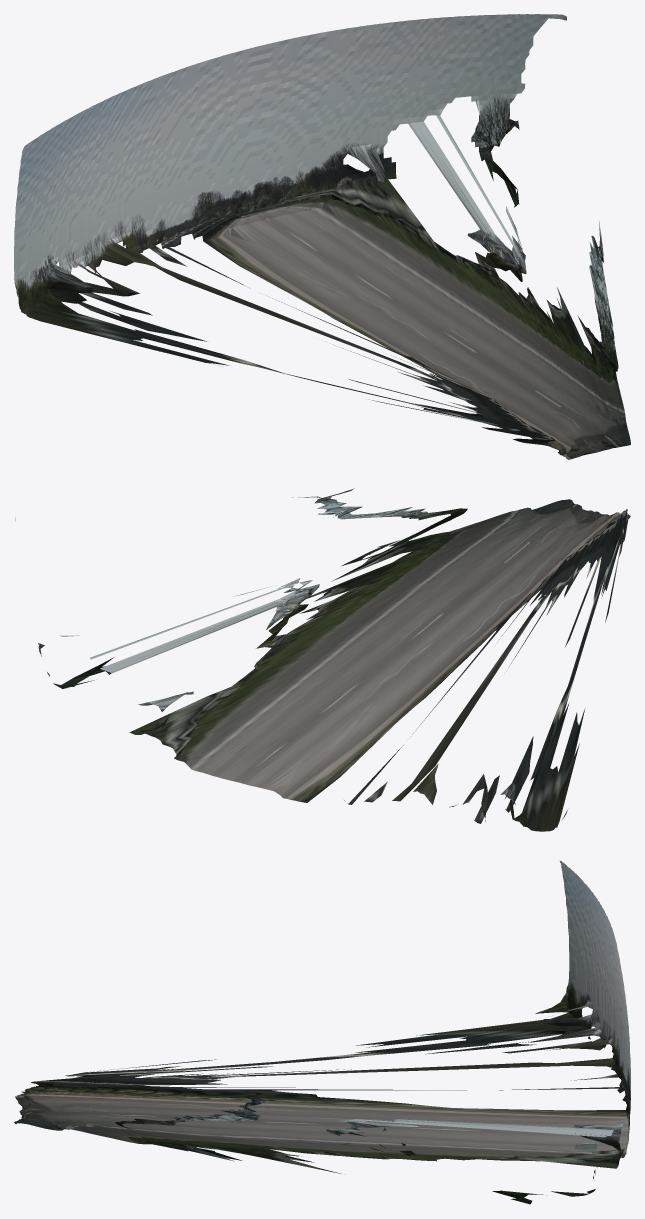
The picture shows the model from 3 angles, top to bottom: view 1: azimuth 30°, elevation 25°; view 2: azimuth 150°, elevation 25°; view 3: azimuth 270°, elevation 25°; orthographic projection. The views are drawn at different scales.
Parts seen in each view (by area): view 1: defaultobject; view 2: defaultobject; view 3: defaultobject.
Boxes of the visible parts, <box> form: defaultobject: <box>14,14,630,459</box>; defaultobject: <box>15,488,630,831</box>; defaultobject: <box>14,860,630,1204</box>.
Bounding box in the file's own units: 40.8 × 13.3 × 44.68.
1 material, 1 textured.
